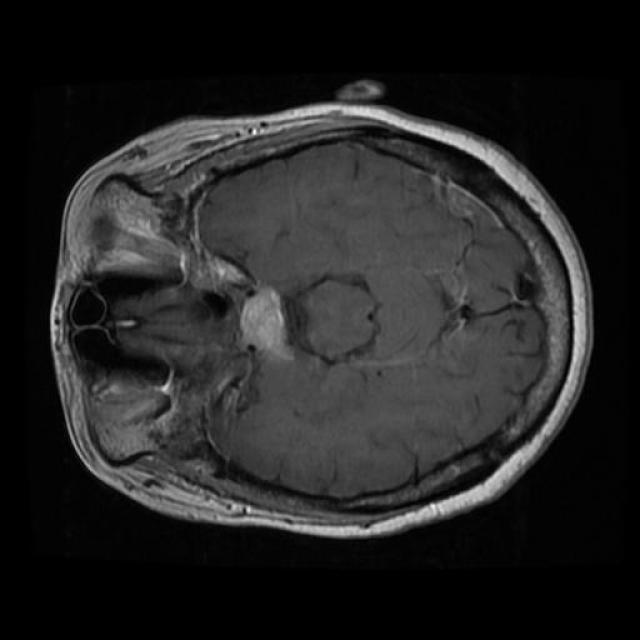Pituitary: (239, 286, 293, 360)
